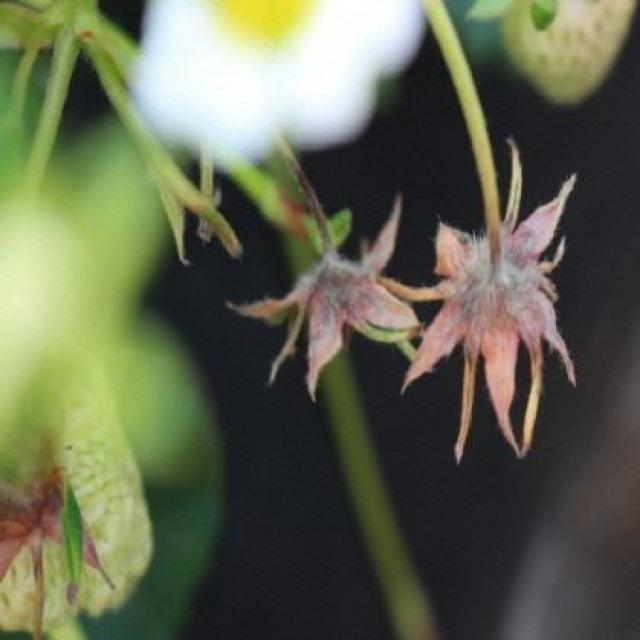Gray Mold: (375, 139, 578, 466), (226, 195, 427, 405)
